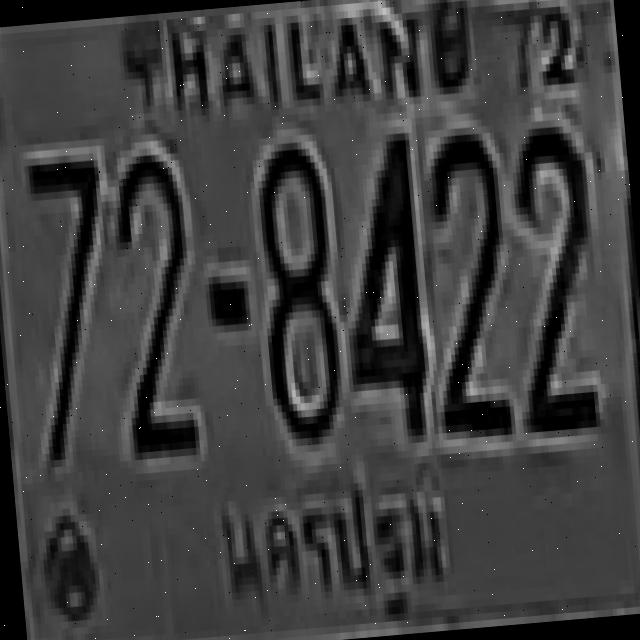2: (499, 114, 604, 429), (416, 125, 516, 433), (106, 146, 202, 453)
4: (328, 126, 432, 440)
7: (21, 146, 121, 460)
8: (246, 134, 342, 440)
NakhonPathom: (205, 453, 462, 640)
